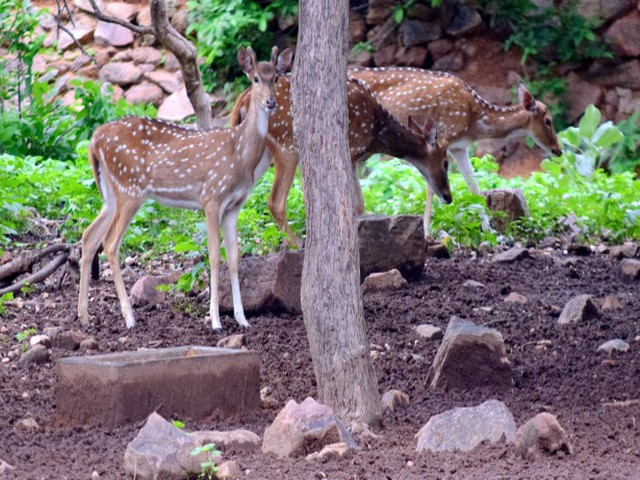deer: (69, 42, 293, 330), (349, 73, 458, 210), (451, 81, 569, 186)
